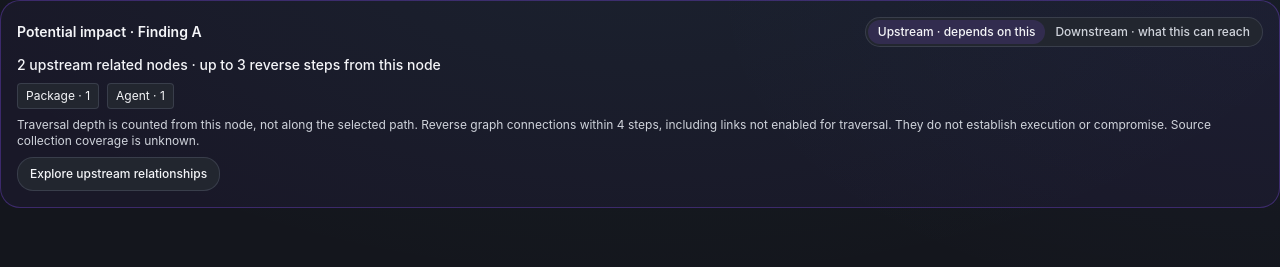
Test: opens each count as a list of its nodes, nearest first, each linking to its own lineage
This screenshot has width=1280, height=267.
Click the button "Agent · 1" at (140, 96), box [107,83,174,109]
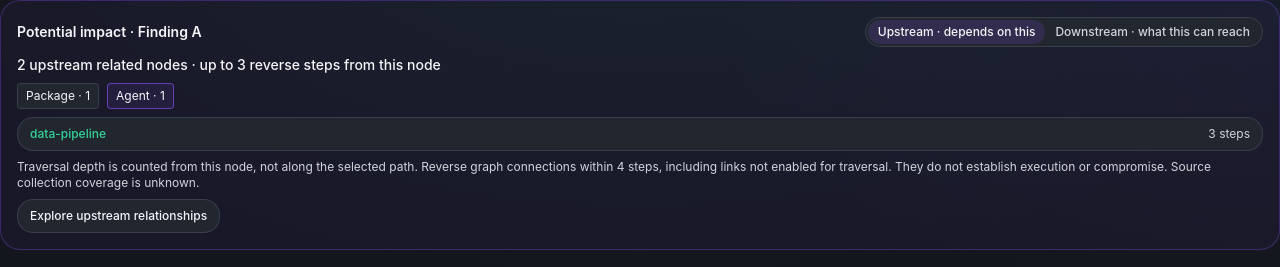
Now the text "3 steps" is shown, box [1208,126,1250,142]
